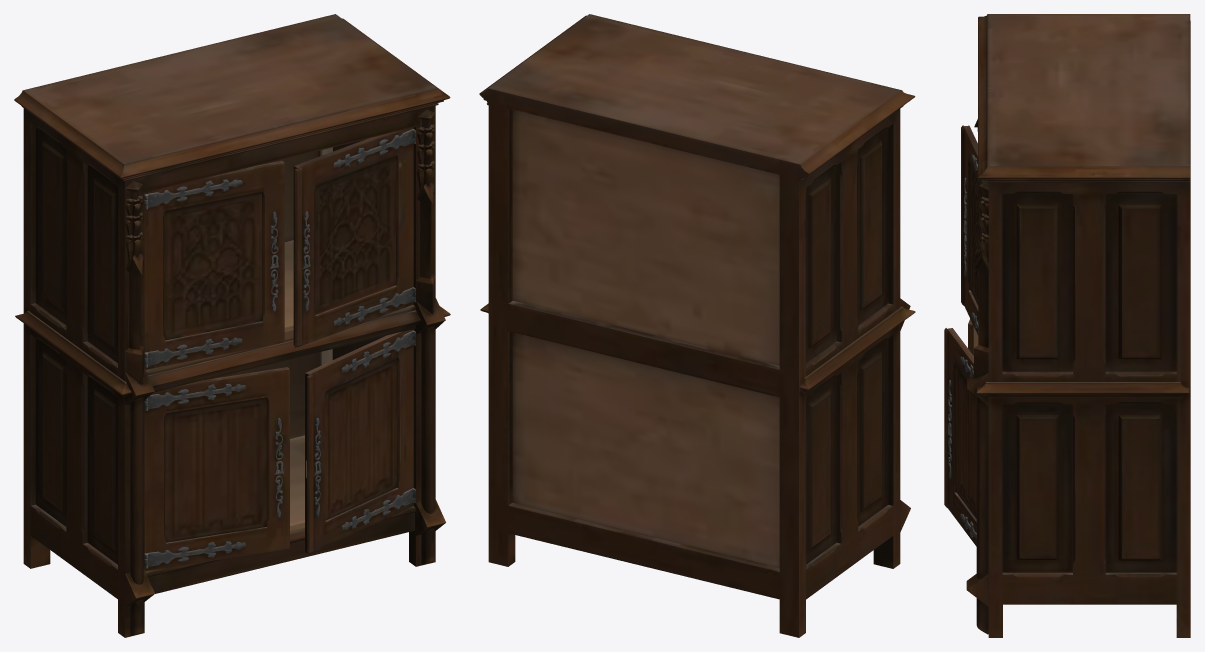
File: GothicCabinet_01.glb
3 renders of one model, left to right at view 1: azimuth 30°, elevation 25°; view 2: azimuth 150°, elevation 25°; view 3: azimuth 270°, elevation 25°, orthographic.
Parts seen in each view (by area): view 1: GothicCabinet_01_cabinet; view 2: GothicCabinet_01_cabinet; view 3: GothicCabinet_01_cabinet.
Part boxes in pixels (box(x1,y1,x2,y2)): GothicCabinet_01_cabinet: box(14, 14, 450, 637); GothicCabinet_01_cabinet: box(479, 14, 915, 637); GothicCabinet_01_cabinet: box(944, 14, 1190, 637).
Size of the model in its own units: 1.72 by 2.36 by 1.12.
Materials: 1 (1 with a texture image).
